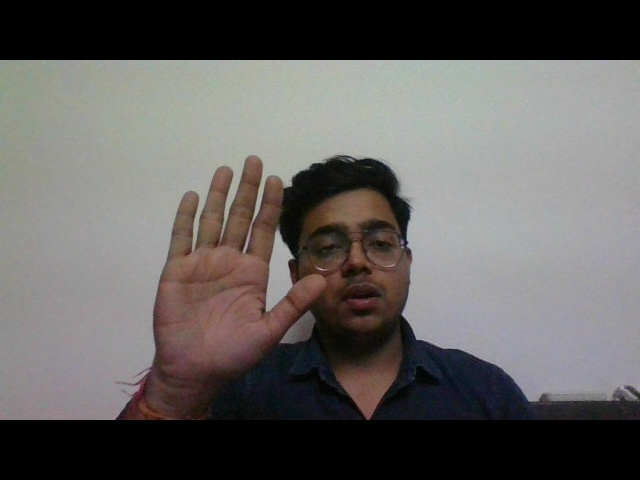Hello: (139, 126, 332, 384)
